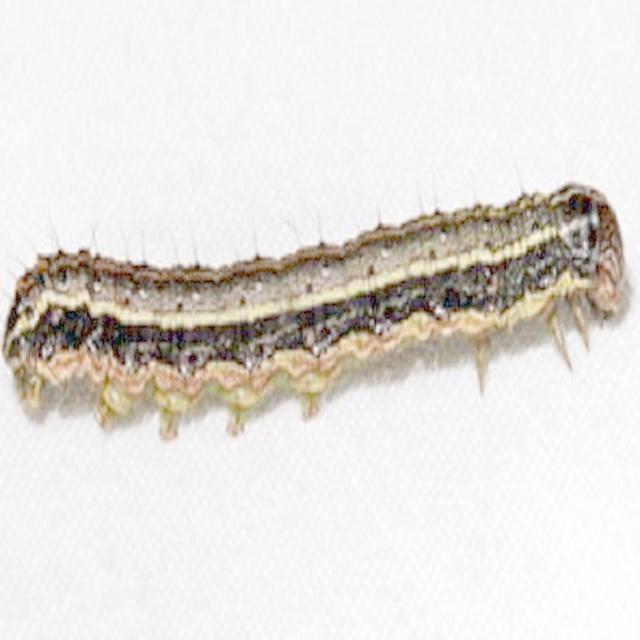Plaga: (1, 184, 640, 443)
